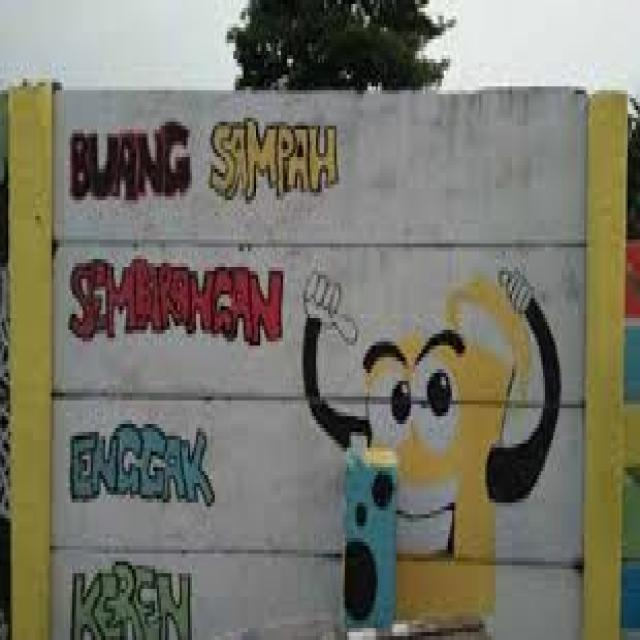-: (301, 262, 564, 635), (70, 257, 282, 350), (70, 424, 216, 507), (211, 118, 340, 204), (70, 118, 192, 207), (68, 554, 192, 640)
